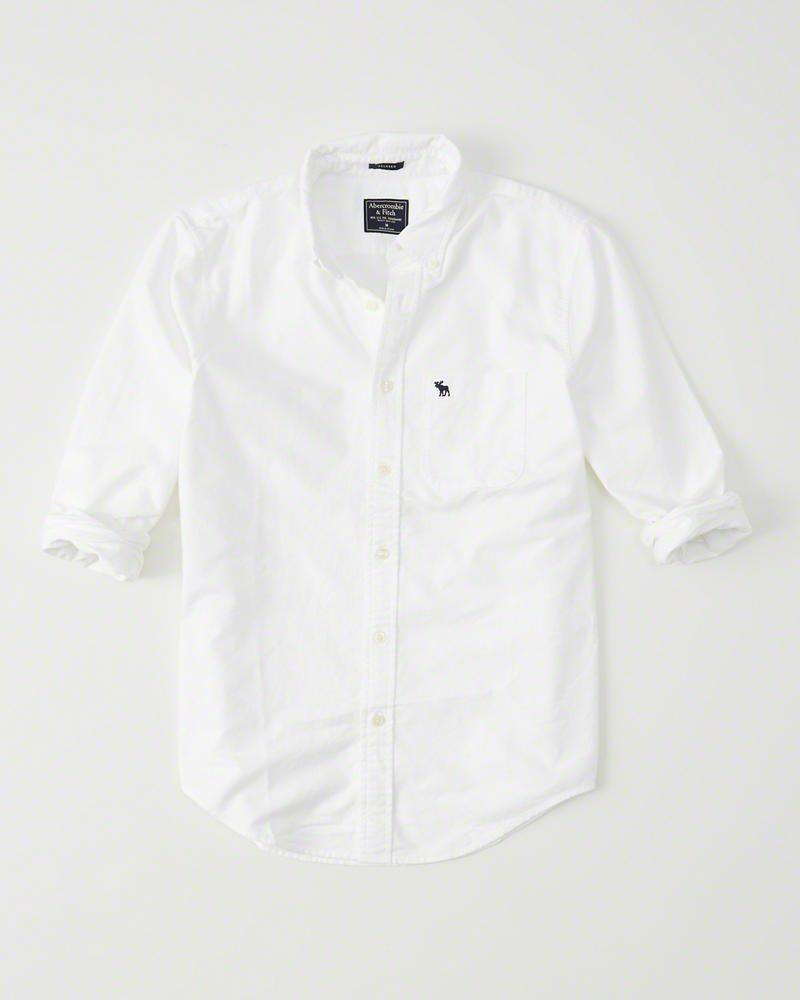teeshirt: (44, 125, 753, 869)
